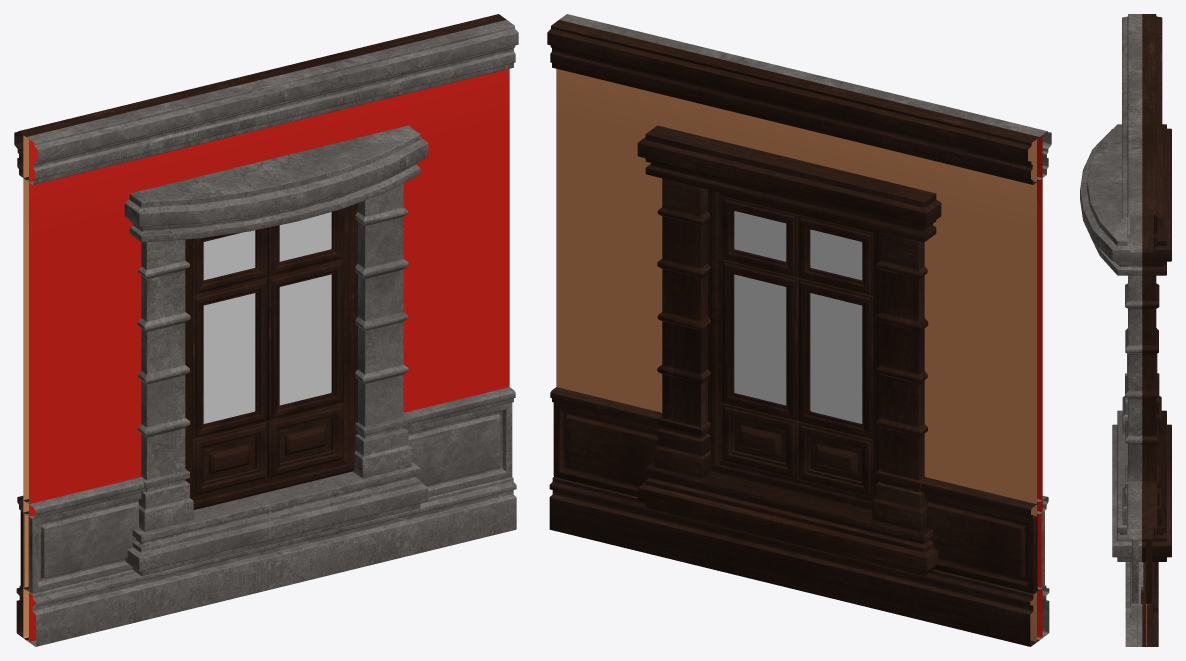
The model's file is SK7 WINDOW 1.fbx.
The picture shows the model from 3 angles, left to right: view 1: azimuth 30°, elevation 25°; view 2: azimuth 150°, elevation 25°; view 3: azimuth 270°, elevation 25°; orthographic projection. The views are drawn at different scales.
Parts seen in each view (by area): view 1: SK7 WINDOW 1; view 2: SK7 WINDOW 1; view 3: SK7 WINDOW 1.
Boxes of the visible parts, x1,y1,x2,y2 form: SK7 WINDOW 1: (14, 14, 518, 646); SK7 WINDOW 1: (547, 14, 1051, 646); SK7 WINDOW 1: (1080, 14, 1171, 646).
Bounding box in the file's own units: 400 × 400 × 77.09.
